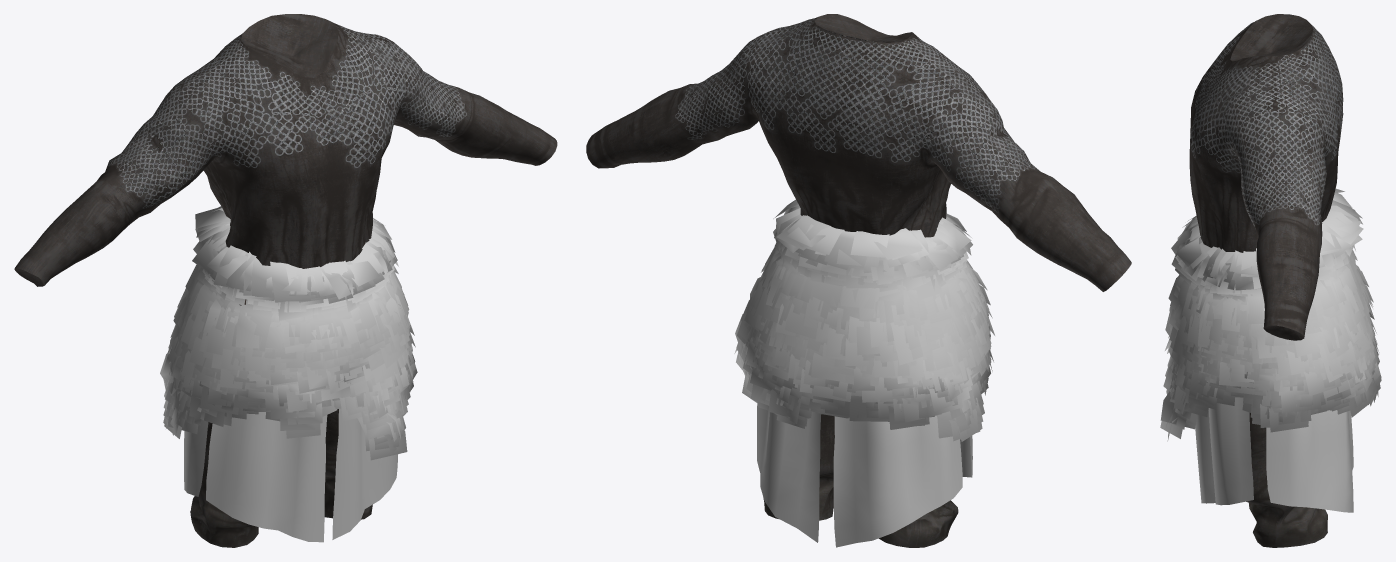
The model's file is sk_gb_uruk_chest_light_a.fbx.
The picture shows the model from 3 angles, left to right: view 1: azimuth 30°, elevation 25°; view 2: azimuth 150°, elevation 25°; view 3: azimuth 270°, elevation 25°; orthographic projection. The views are drawn at different scales.
Visible parts, largest first — view 1: sk_gb_uruk_chest_light_a.base.1, sk_gb_uruk_chest_light_a.skirt.2, sk_gb_uruk_chest_light_a.skirt.1, sk_gb_uruk_chest_light_a.base.0; view 2: sk_gb_uruk_chest_light_a.base.1, sk_gb_uruk_chest_light_a.skirt.2, sk_gb_uruk_chest_light_a.skirt.1, sk_gb_uruk_chest_light_a.base.0; view 3: sk_gb_uruk_chest_light_a.base.1, sk_gb_uruk_chest_light_a.skirt.2, sk_gb_uruk_chest_light_a.skirt.1, sk_gb_uruk_chest_light_a.base.0.
Part boxes in pixels (x1=…): sk_gb_uruk_chest_light_a.base.1: x1=14, y1=14, x2=557, y2=286; sk_gb_uruk_chest_light_a.skirt.2: x1=160, y1=206, x2=417, y2=460; sk_gb_uruk_chest_light_a.skirt.1: x1=184, y1=408, x2=398, y2=542; sk_gb_uruk_chest_light_a.base.0: x1=190, y1=409, x2=372, y2=547; sk_gb_uruk_chest_light_a.base.1: x1=586, y1=14, x2=1131, y2=291; sk_gb_uruk_chest_light_a.skirt.2: x1=734, y1=199, x2=994, y2=441; sk_gb_uruk_chest_light_a.skirt.1: x1=757, y1=403, x2=972, y2=547; sk_gb_uruk_chest_light_a.base.0: x1=763, y1=414, x2=958, y2=547; sk_gb_uruk_chest_light_a.base.1: x1=1189, y1=14, x2=1343, y2=340; sk_gb_uruk_chest_light_a.skirt.2: x1=1160, y1=188, x2=1381, y2=441; sk_gb_uruk_chest_light_a.skirt.1: x1=1195, y1=397, x2=1353, y2=512; sk_gb_uruk_chest_light_a.base.0: x1=1246, y1=413, x2=1327, y2=547.
Size of the model in its own units: 1.35 by 0.4991 by 1.2.
